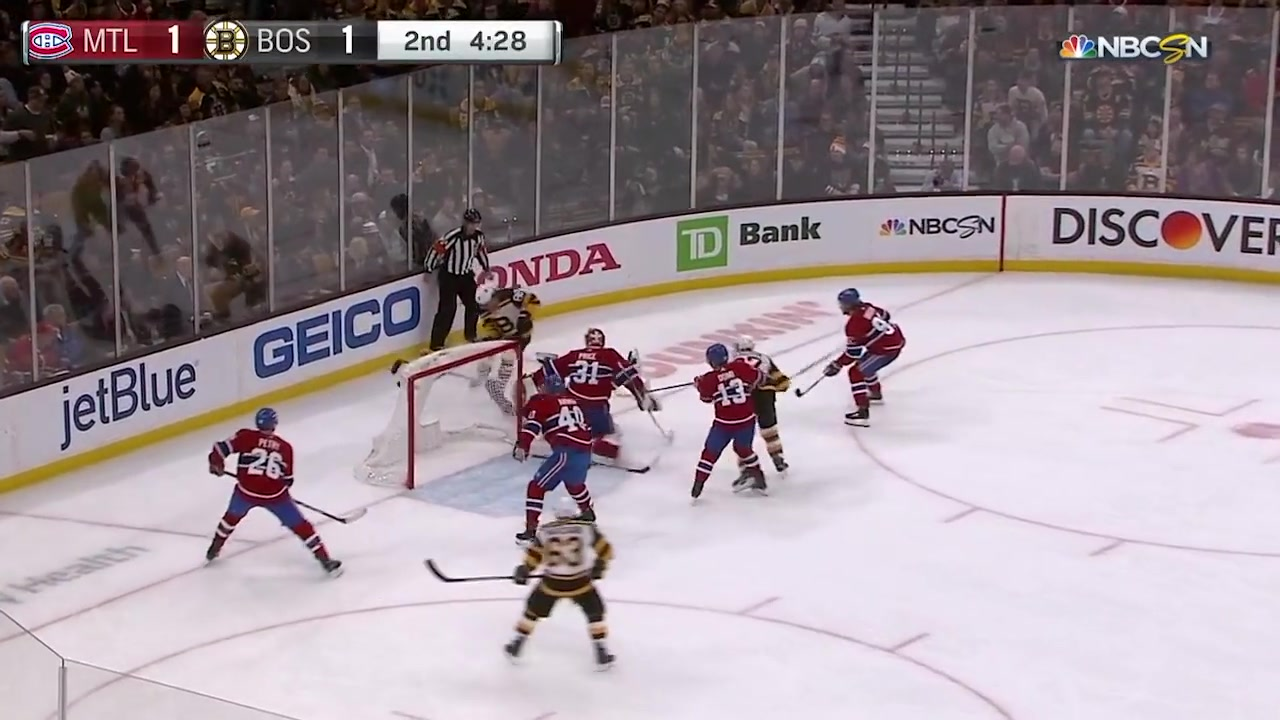geico: (241, 296, 430, 370)
